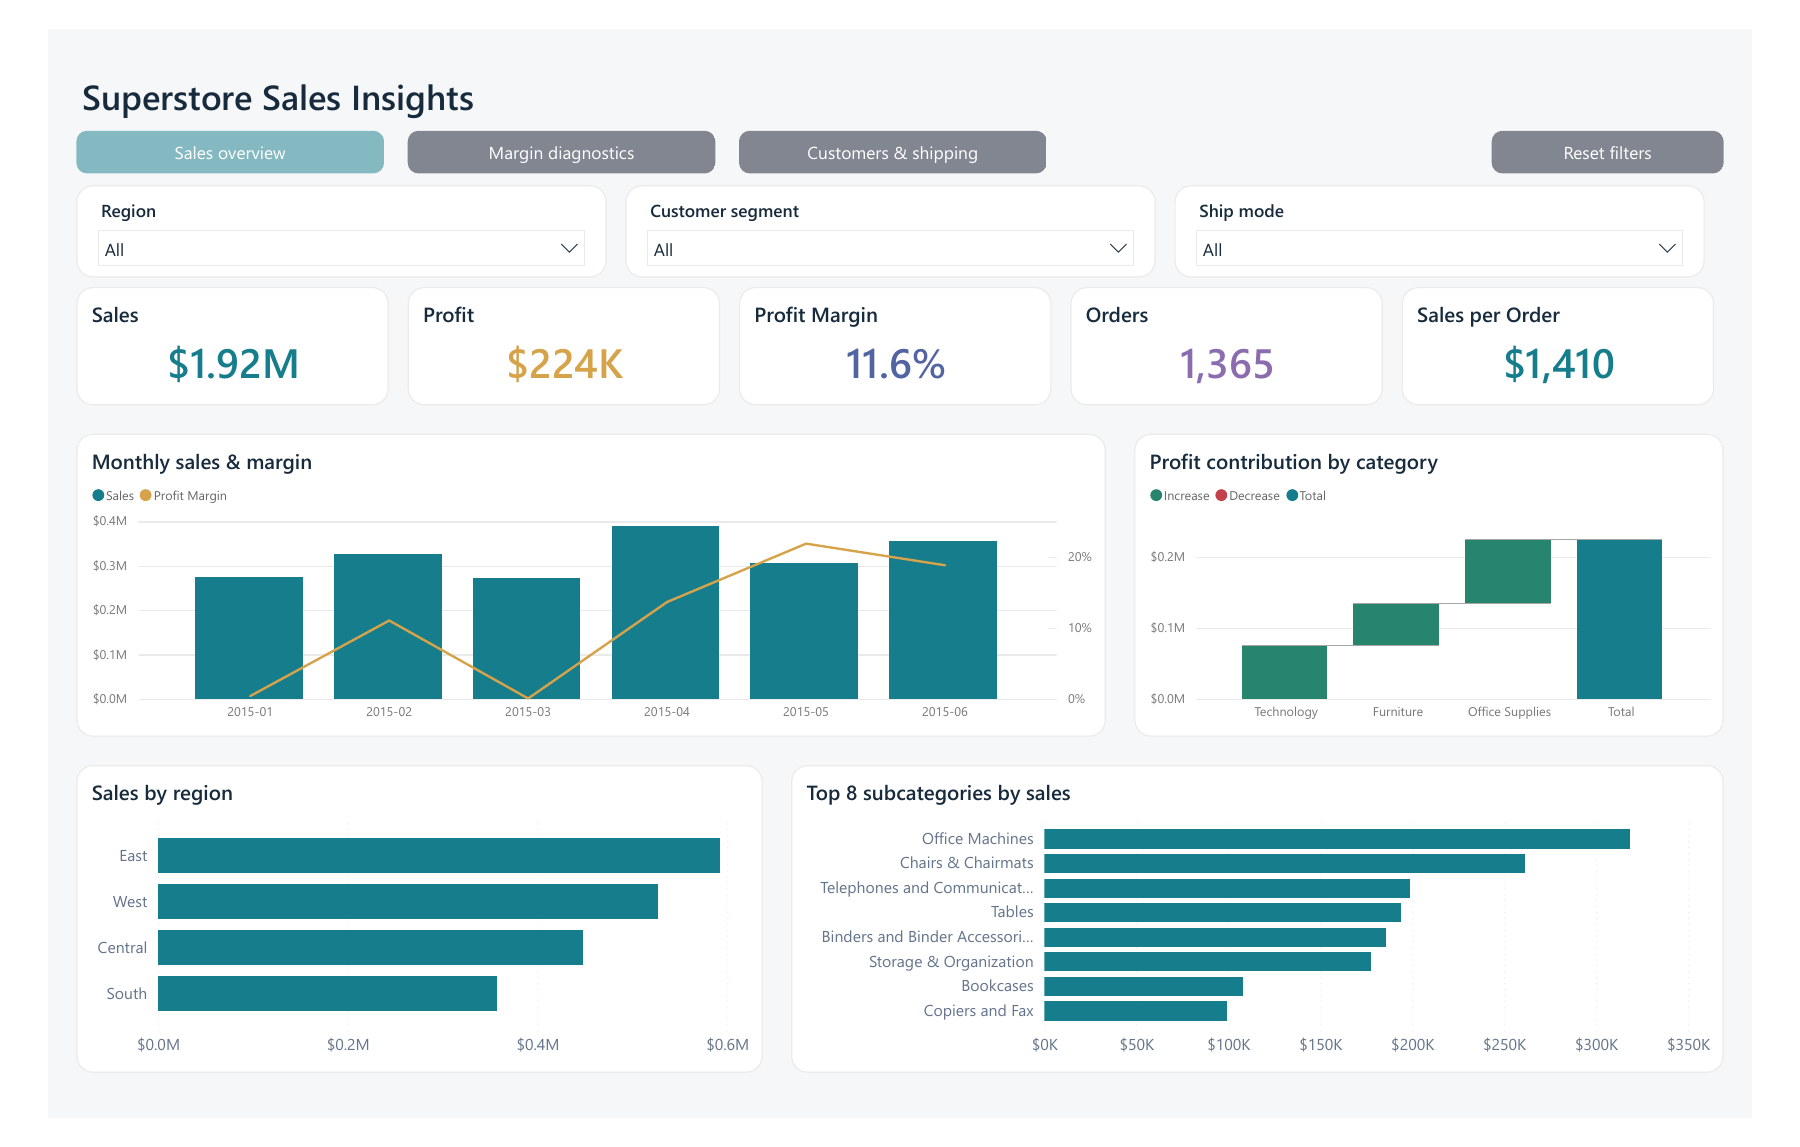

What the dashboard file says about the page in this screenshot:
{"tool":"powerbi","page":{"name":"Superstore Sales Insights","canvas":[1440,900],"ordinal":0},"visuals":[{"type":"textbox","box":[24,12,1120,56],"z":100},{"type":"slicer","fields":{"Values":["Sales.Region"]},"box":[24,112,448,78],"z":100},{"type":"slicer","fields":{"Values":["Sales.CustomerSegment"]},"box":[488,112,448,78],"z":100},{"type":"slicer","fields":{"Values":["Sales.ShipMode"]},"box":[952,112,448,78],"z":100},{"type":"card","title":"Sales","fields":{"Values":["Metrics.Sales"]},"box":[24,198,264,100],"z":100},{"type":"card","title":"Profit","fields":{"Values":["Metrics.Profit"]},"box":[304,198,264,100],"z":100},{"type":"card","title":"Profit Margin","fields":{"Values":["Metrics.Profit Margin"]},"box":[584,198,264,100],"z":100},{"type":"card","title":"Orders","fields":{"Values":["Metrics.Orders"]},"box":[864,198,264,100],"z":100},{"type":"card","title":"Sales per Order","fields":{"Values":["Metrics.Sales per Order"]},"box":[1144,198,264,100],"z":100},{"type":"lineClusteredColumnComboChart","title":"Monthly sales & margin","fields":{"Category":["Dates.Year Month"],"Y":["Metrics.Sales"],"Y2":["Metrics.Profit Margin"]},"box":[24,322,870,256],"z":100},{"type":"waterfallChart","title":"Profit contribution by category","fields":{"Category":["Products.ProductCategory"],"Y":["Metrics.Profit"]},"box":[918,322,498,256],"z":100},{"type":"clusteredBarChart","title":"Sales by region","fields":{"Category":["Sales.Region"],"Y":["Metrics.Sales"]},"box":[24,602,580,260],"z":100},{"type":"clusteredBarChart","title":"Top 8 subcategories by sales","fields":{"Category":["Products.ProductSubCategory"],"Y":["Metrics.Sales"]},"box":[628,602,788,260],"z":100},{"type":"actionButton","box":[24,66,260,36],"z":5000},{"type":"actionButton","box":[304,66,260,36],"z":5000},{"type":"actionButton","box":[584,66,260,36],"z":5000},{"type":"actionButton","box":[1220,66,196,36],"z":5000}]}

Visuals, with their boxes in screenshot pixels (x1, y1, x2, y2), scaled from the page's 1440x900 canvas onto the 1800x1147 screenshot:
textbox: [left=30, top=15, right=1430, bottom=87]
slicer - Sales.Region: [left=30, top=143, right=590, bottom=242]
slicer - Sales.CustomerSegment: [left=610, top=143, right=1170, bottom=242]
slicer - Sales.ShipMode: [left=1190, top=143, right=1750, bottom=242]
"Sales" card: [left=30, top=252, right=360, bottom=380]
"Profit" card: [left=380, top=252, right=710, bottom=380]
"Profit Margin" card: [left=730, top=252, right=1060, bottom=380]
"Orders" card: [left=1080, top=252, right=1410, bottom=380]
"Sales per Order" card: [left=1430, top=252, right=1760, bottom=380]
"Monthly sales & margin" lineClusteredColumnComboChart: [left=30, top=410, right=1118, bottom=737]
"Profit contribution by category" waterfallChart: [left=1148, top=410, right=1770, bottom=737]
"Sales by region" clusteredBarChart: [left=30, top=767, right=755, bottom=1099]
"Top 8 subcategories by sales" clusteredBarChart: [left=785, top=767, right=1770, bottom=1099]
actionButton: [left=30, top=84, right=355, bottom=130]
actionButton: [left=380, top=84, right=705, bottom=130]
actionButton: [left=730, top=84, right=1055, bottom=130]
actionButton: [left=1525, top=84, right=1770, bottom=130]
